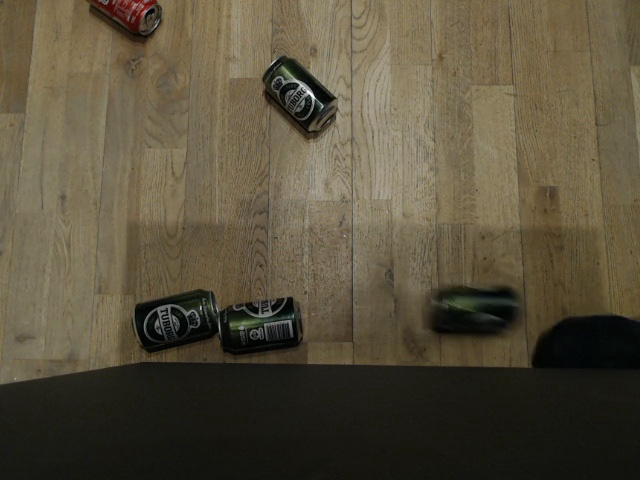beer: (258, 51, 341, 138), (424, 284, 529, 338), (130, 284, 218, 347), (218, 294, 306, 355)
cola: (83, 0, 165, 43)
